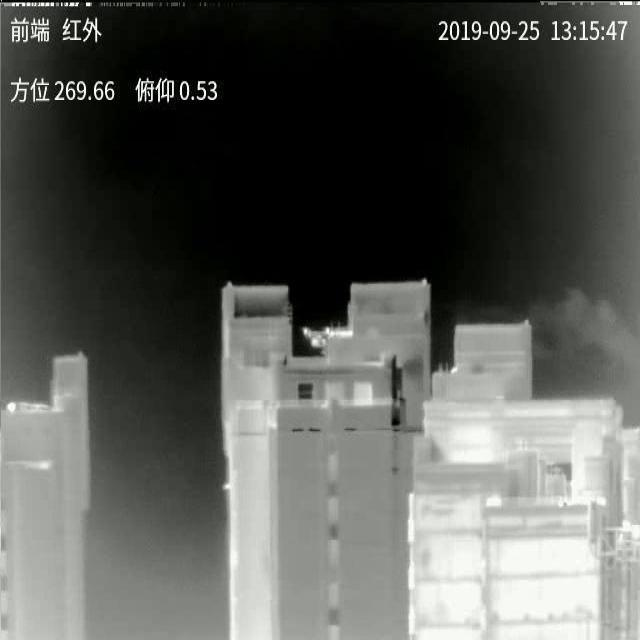drone: (301, 326, 334, 356)
